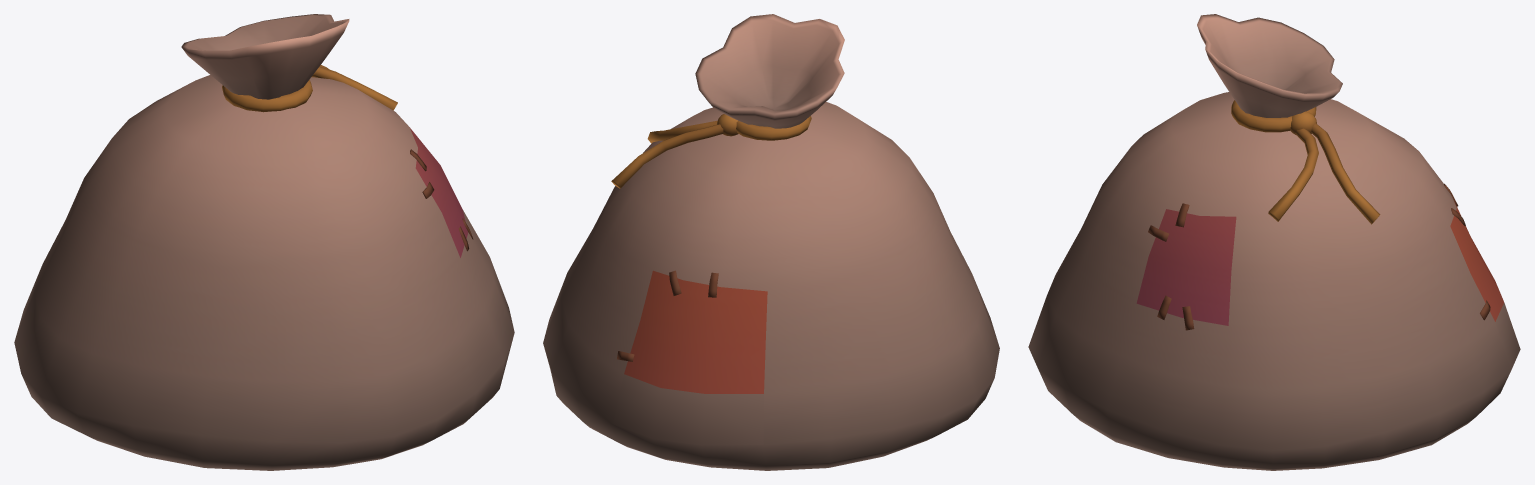
File: obj_FlourBag.fbx
3 renders of one model, left to right at view 1: azimuth 30°, elevation 25°; view 2: azimuth 150°, elevation 25°; view 3: azimuth 270°, elevation 25°, orthographic. The views are drawn at different scales.
Visible parts, largest first — view 1: obj_FlourBag; view 2: obj_FlourBag; view 3: obj_FlourBag.
Part boxes in pixels (x1,y1,x2,y2): obj_FlourBag: (14, 14, 514, 470); obj_FlourBag: (543, 14, 999, 470); obj_FlourBag: (1028, 14, 1520, 470).
Bounding box in the file's own units: 32.5 × 25.66 × 32.65.
